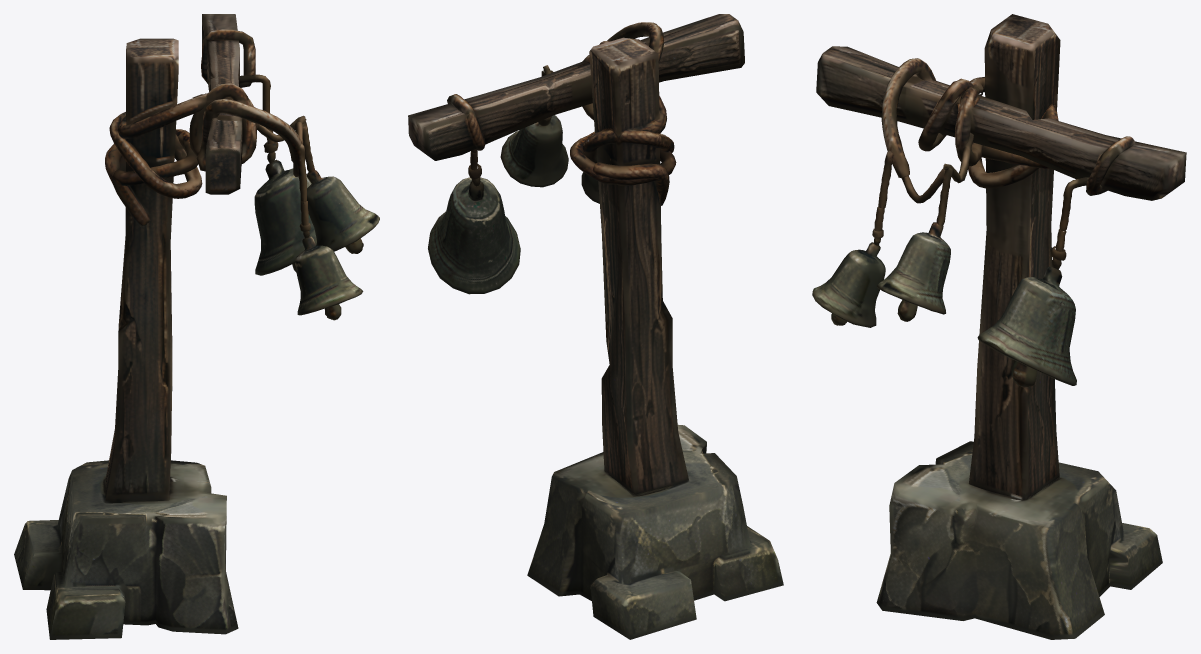
File: act1_kit_v1_bell_post.glb
The picture shows the model from 3 angles, left to right: view 1: azimuth 30°, elevation 25°; view 2: azimuth 150°, elevation 25°; view 3: azimuth 270°, elevation 25°; orthographic projection. The views are drawn at different scales.
Visible parts, largest first — view 1: act1_kit_v1_bell_post; view 2: act1_kit_v1_bell_post; view 3: act1_kit_v1_bell_post.
Part boxes in pixels (x1,y1,x2,y2): act1_kit_v1_bell_post: [14, 14, 379, 639]; act1_kit_v1_bell_post: [408, 14, 783, 639]; act1_kit_v1_bell_post: [812, 14, 1186, 639].
Size of the model in its own units: 0.6301 by 1 by 0.5944.
1 material, 1 textured.
